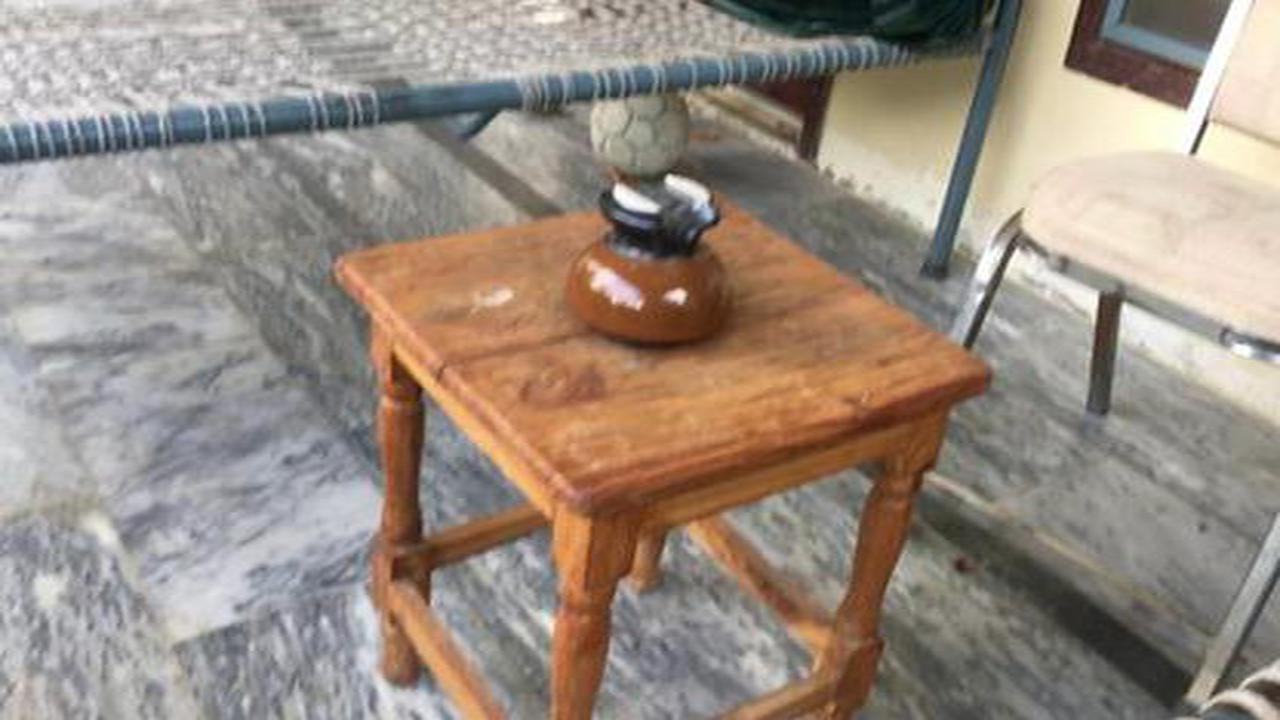insulator_pin: (533, 151, 757, 359)
